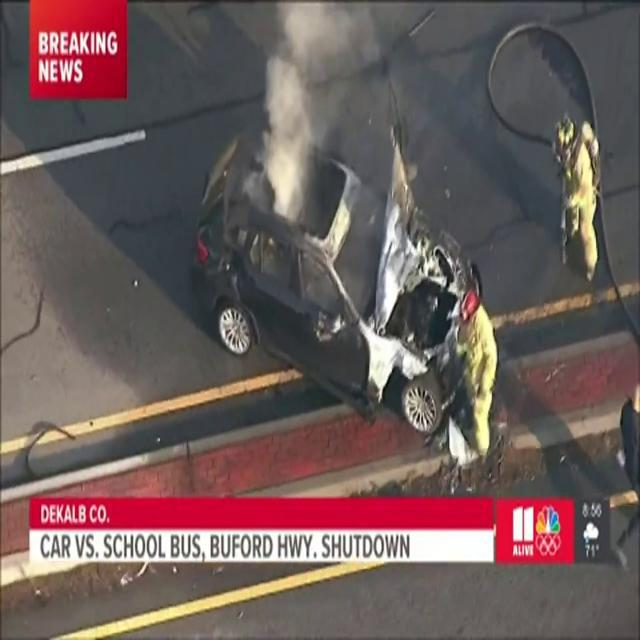Smoke: (246, 0, 364, 219)
